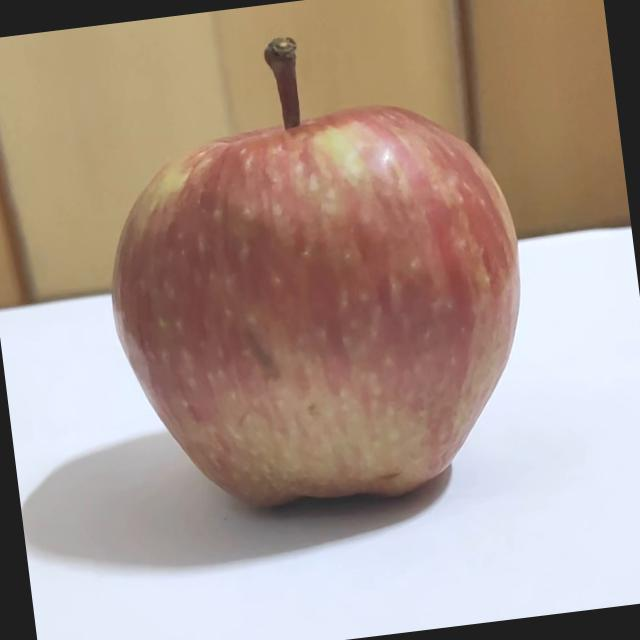apple: (84, 8, 560, 530)
